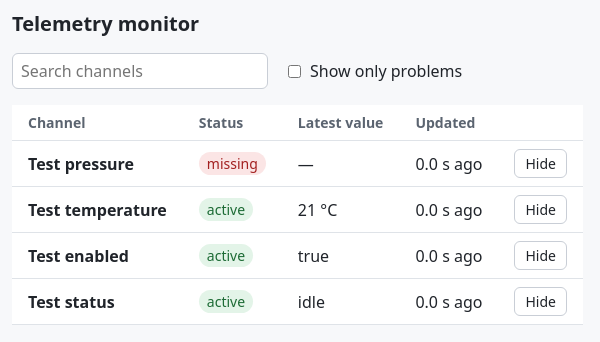
Test: telemetry monitor › filters › says when nothing matches
The width and height of the screenshot is (600, 342).
Type "zzz" into the search field.
click(140, 71); type("zzz")  # box [12,53,268,89]
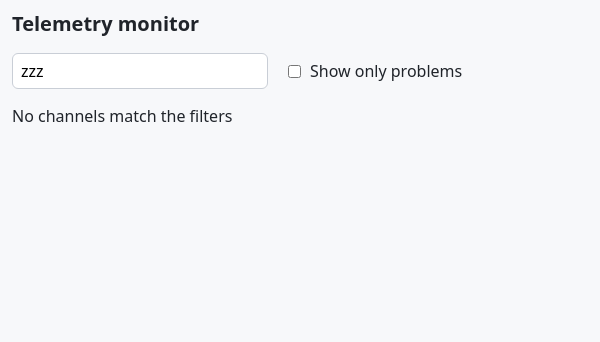
Check: the text "No channels match the filters" is shown, box [12,105,232,127]
